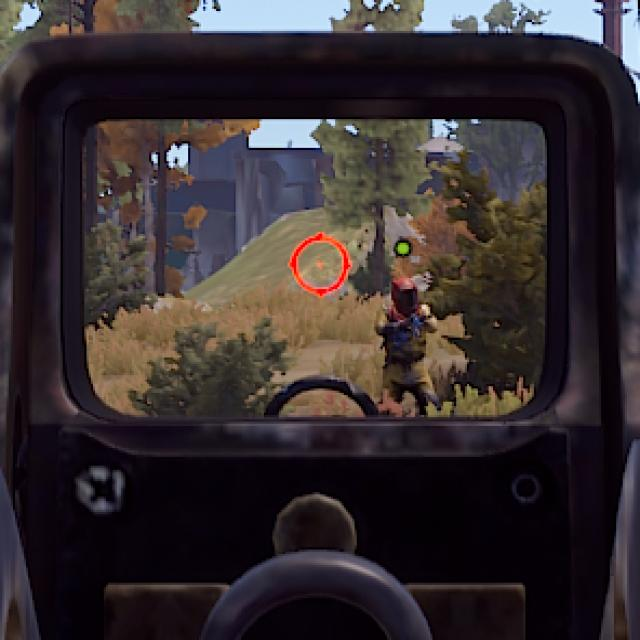Player: (378, 279, 442, 400)
